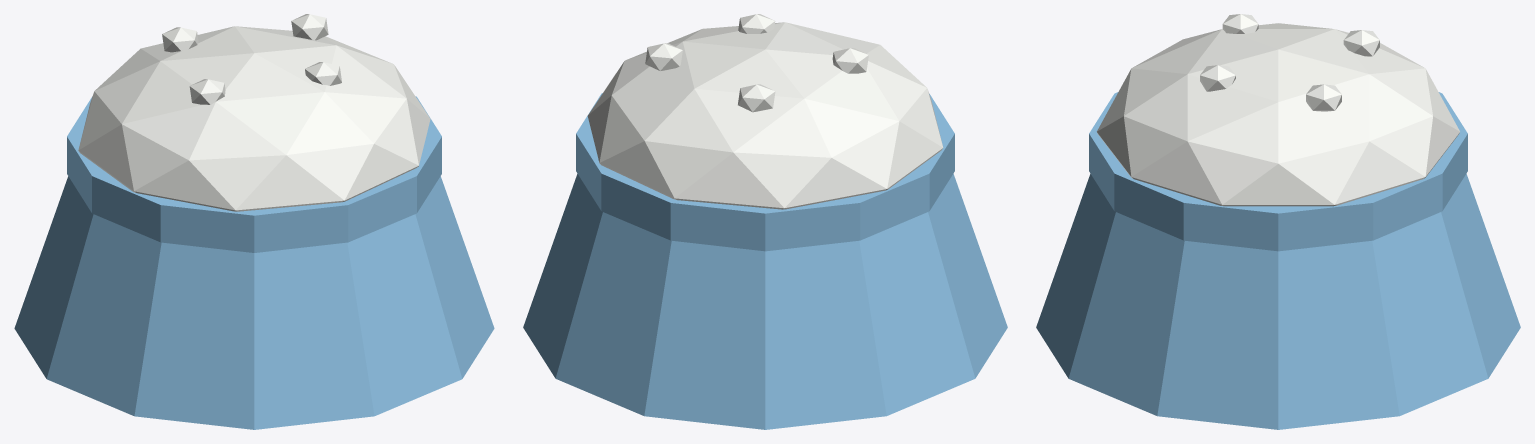
Rendered from Sugar.glb.
3 renders of one model, left to right at view 1: azimuth 30°, elevation 25°; view 2: azimuth 150°, elevation 25°; view 3: azimuth 270°, elevation 25°, orthographic.
Parts seen in each view (by area): view 1: Sugar_Bowl, SugarCrystal_0; view 2: Sugar_Bowl, SugarCrystal_0; view 3: Sugar_Bowl, SugarCrystal_0.
Boxes of the visible parts, x1,y1,x2,y2 form: Sugar_Bowl: (14, 96, 494, 429); SugarCrystal_0: (78, 14, 430, 211); Sugar_Bowl: (523, 93, 1007, 429); SugarCrystal_0: (587, 14, 943, 209); Sugar_Bowl: (1036, 92, 1520, 429); SugarCrystal_0: (1097, 14, 1459, 206).
Bounding box in the file's own units: 0.64 × 0.41 × 0.64.
